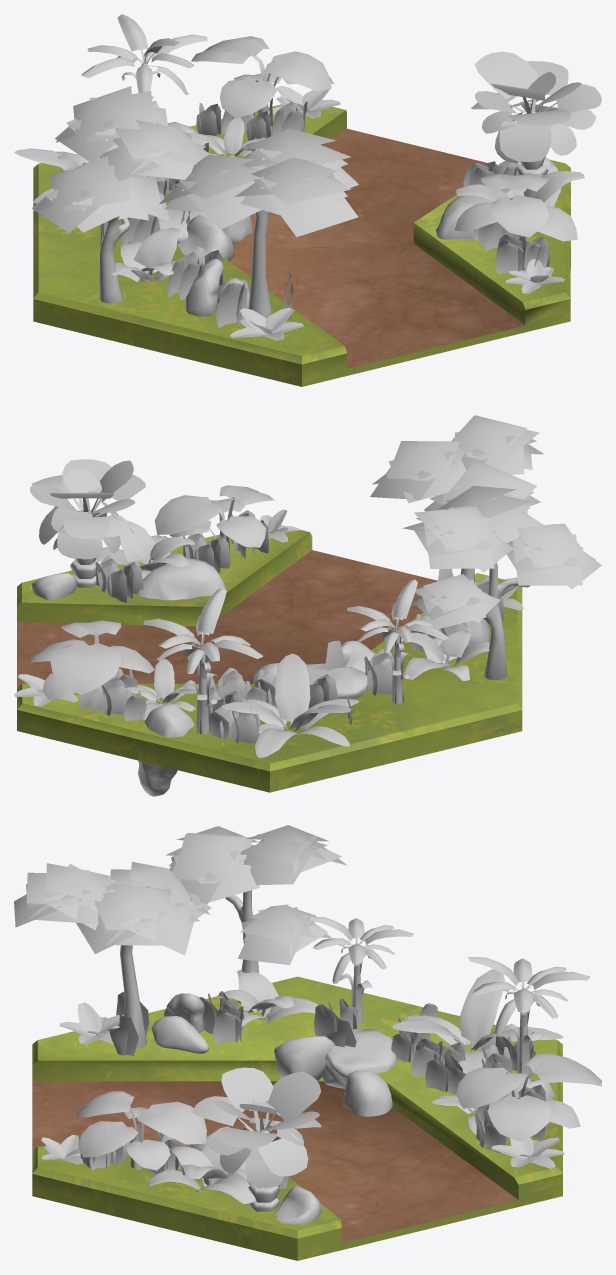
Rendered from HexTile1.fbx.
3 renders of one model, top to bottom at view 1: azimuth 30°, elevation 25°; view 2: azimuth 150°, elevation 25°; view 3: azimuth 270°, elevation 25°, orthographic. The views are drawn at different scales.
Visible parts, largest first — view 1: Terrain_01.002, Tree7.001, Tree6.001, fanPalmSmall.001, monsteraPlant.001, monsteraPlant.002, bananaPlant.002, plant2.001, plant2.002, rock_low.002, rock.004_low.002, plant3 (+8 smaller); view 2: Terrain_01.002, Tree7.001, Tree6.001, fanPalmSmall.001, plant1.001, monsteraPlant.001, monsteraPlant.002, bananaPlant.002, bananaPlant.001, rock_low.003, plant2.002, plant2.001 (+11 smaller); view 3: Terrain_01.002, Tree6.001, Tree7.001, fanPalmSmall.001, monsteraPlant.001, monsteraPlant.002, plant1.001, bananaPlant.002, bananaPlant.001, plant2.002, rock.003_low.001, plant2.001 (+11 smaller).
Boxes of the visible parts, x1=… form: Terrain_01.002: x1=33, y1=104, x2=570, y2=386; Tree7.001: x1=32, y1=86, x2=211, y2=303; Tree6.001: x1=159, y1=128, x2=358, y2=318; fanPalmSmall.001: x1=471, y1=51, x2=601, y2=175; monsteraPlant.001: x1=191, y1=36, x2=334, y2=126; monsteraPlant.002: x1=454, y1=173, x2=577, y2=241; bananaPlant.002: x1=81, y1=14, x2=207, y2=107; plant2.001: x1=110, y1=227, x2=180, y2=283; plant2.002: x1=455, y1=170, x2=584, y2=209; rock_low.002: x1=185, y1=258, x2=223, y2=316; rock.004_low.002: x1=177, y1=214, x2=233, y2=261; plant3: x1=230, y1=307, x2=303, y2=340; Terrain_01.002: x1=17, y1=525, x2=522, y2=792; Tree7.001: x1=402, y1=485, x2=601, y2=680; Tree6.001: x1=370, y1=415, x2=543, y2=583; fanPalmSmall.001: x1=30, y1=459, x2=145, y2=587; plant1.001: x1=222, y1=653, x2=358, y2=757; monsteraPlant.001: x1=29, y1=620, x2=154, y2=699; monsteraPlant.002: x1=154, y1=485, x2=274, y2=554; bananaPlant.002: x1=143, y1=587, x2=262, y2=734; bananaPlant.001: x1=347, y1=579, x2=448, y2=703; rock_low.003: x1=136, y1=558, x2=226, y2=600; plant2.002: x1=96, y1=521, x2=194, y2=578; plant2.001: x1=401, y1=630, x2=489, y2=680; Terrain_01.002: x1=32, y1=976, x2=562, y2=1260; Tree6.001: x1=14, y1=862, x2=211, y2=1048; Tree7.001: x1=165, y1=825, x2=347, y2=1003; fanPalmSmall.001: x1=193, y1=1067, x2=321, y2=1211; monsteraPlant.001: x1=456, y1=1053, x2=601, y2=1141; monsteraPlant.002: x1=76, y1=1091, x2=206, y2=1170; plant1.001: x1=392, y1=969, x2=563, y2=1073; bananaPlant.002: x1=468, y1=956, x2=590, y2=1079; bananaPlant.001: x1=309, y1=916, x2=413, y2=1025; plant2.002: x1=147, y1=1145, x2=255, y2=1204; rock.003_low.001: x1=321, y1=1029, x2=397, y2=1088; plant2.001: x1=217, y1=970, x2=318, y2=1027.
Bounding box in the file's own units: 2137 × 929 × 1917.
